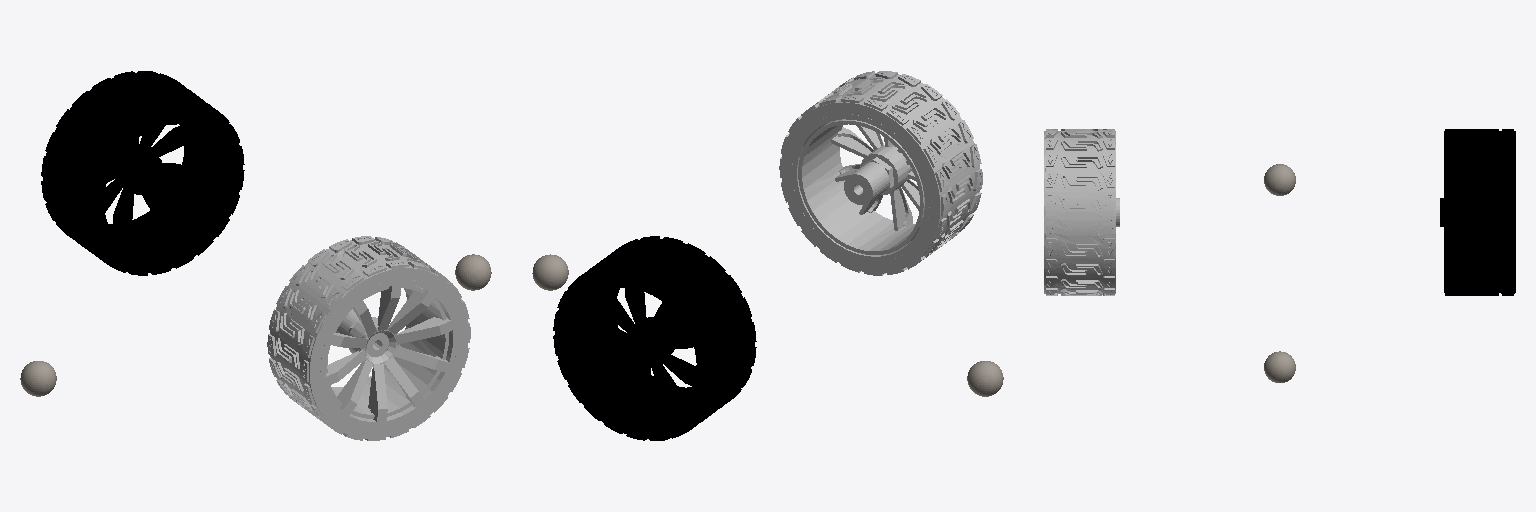
robot.urdf — mybot_description:
<?xml version="1.0" encoding="utf-8"?>
<!-- This URDF was automatically created by SolidWorks to URDF Exporter! Originally created by [author] ([email redacted]) 
     Commit Version: 1.6.0-1-g15f4949  Build Version: 1.6.7594.29634
     For more information, please see http://wiki.ros.org/sw_urdf_exporter -->
<robot
  name="mybot_description">
  <link
    name="base_link">
    <inertial>
      <origin
        xyz="0.0016313 8.6959E-07 0.044005"
        rpy="0 0 0" />
      <mass
        value="0.48293" />
      <inertia
        ixx="0.0019371"
        ixy="1.7761E-08"
        ixz="5.6275E-06"
        iyy="0.0020939"
        iyz="1.3096E-09"
        izz="0.0038315" />
    </inertial>
    <visual>
      <origin
        xyz="0 0 0"
        rpy="0 0 0" />
      <geometry>
        <mesh
          filename="package://mybot_description/meshes/base_link.STL" />
      </geometry>
      <material
        name="">
        <color
          rgba="0.25098 0.25098 0.25098 1" />
      </material>
    </visual>
    <collision>
      <origin
        xyz="0 0 0"
        rpy="0 0 0" />
      <geometry>
        <mesh
          filename="package://mybot_description/meshes/base_link.STL" />
      </geometry>
    </collision>
  </link>
  <link
    name="wheel_right">
    <inertial>
      <origin
        xyz="-4.3367E-05 0.013911 -0.00036102"
        rpy="0 0 0" />
      <mass
        value="0.085958" />
      <inertia
        ixx="3.7826E-05"
        ixy="-5.0247E-11"
        ixz="4.2853E-09"
        iyy="6.357E-05"
        iyz="-4.1865E-10"
        izz="3.7861E-05" />
    </inertial>
    <visual>
      <origin
        xyz="0 0 0"
        rpy="0 0 0" />
      <geometry>
        <mesh
          filename="package://mybot_description/meshes/wheel_right.STL" />
      </geometry>
      <material
        name="">
        <color
          rgba="0.75294 0.75294 0.75294 1" />
      </material>
    </visual>
    <collision>
      <origin
        xyz="0 0 0"
        rpy="0 0 0" />
      <geometry>
        <mesh
          filename="package://mybot_description/meshes/wheel_right.STL" />
      </geometry>
    </collision>
  </link>
  <joint
    name="wheel_right_jt"
    type="continuous">
    <origin
      xyz="0 -0.0956 0.030497"
      rpy="0 0 0" />
    <parent
      link="base_link" />
    <child
      link="wheel_right" />
    <axis
      xyz="0 -1 0" />
    <limit
      effort="100"
      velocity="100" />
  </joint>
  <link
    name="wheel_left">
    <inertial>
      <origin
        xyz="0.0001873 -0.013911 -0.00031169"
        rpy="0 0 0" />
      <mass
        value="0.085958" />
      <inertia
        ixx="3.7835E-05"
        ixy="-2.1718E-10"
        ixz="-1.599E-08"
        iyy="6.357E-05"
        iyz="3.6142E-10"
        izz="3.7852E-05" />
    </inertial>
    <visual>
      <origin
        xyz="0 0 0"
        rpy="0 0 0" />
      <geometry>
        <mesh
          filename="package://mybot_description/meshes/wheel_left.STL" />
      </geometry>
      <material
        name="">
        <color
          rgba="0 0 0 1" />
      </material>
    </visual>
    <collision>
      <origin
        xyz="0 0 0"
        rpy="0 0 0" />
      <geometry>
        <mesh
          filename="package://mybot_description/meshes/wheel_left.STL" />
      </geometry>
    </collision>
  </link>
  <joint
    name="wheel_left_jt"
    type="continuous">
    <origin
      xyz="0 0.0956 0.030498"
      rpy="0 0 0" />
    <parent
      link="base_link" />
    <child
      link="wheel_left" />
    <axis
      xyz="0 1 0" />
    <limit
      effort="100"
      velocity="100" />
  </joint>
  <link
    name="caster1">
    <inertial>
      <origin
        xyz="-5.5511E-17 -1.3878E-17 -1.3878E-17"
        rpy="0 0 0" />
      <mass
        value="0.0011503" />
      <inertia
        ixx="1.9441E-08"
        ixy="5.3767E-25"
        ixz="6.3848E-25"
        iyy="1.9441E-08"
        iyz="2.0163E-25"
        izz="1.9441E-08" />
    </inertial>
    <visual>
      <origin
        xyz="0 0 0"
        rpy="0 0 0" />
      <geometry>
        <mesh
          filename="package://mybot_description/meshes/caster1.STL" />
      </geometry>
      <material
        name="">
        <color
          rgba="0.64706 0.61961 0.58824 1" />
      </material>
    </visual>
    <collision>
      <origin
        xyz="0 0 0"
        rpy="0 0 0" />
      <geometry>
        <mesh
          filename="package://mybot_description/meshes/caster1.STL" />
      </geometry>
    </collision>
  </link>
  <joint
    name="caster1_jt"
    type="continuous">
    <origin
      xyz="0.09 0 0.00297"
      rpy="0 0 0" />
    <parent
      link="base_link" />
    <child
      link="caster1" />
    <axis
      xyz="1 0 0" />
    <limit
      effort="100"
      velocity="100" />
  </joint>
  <link
    name="caster2">
    <inertial>
      <origin
        xyz="9.8255E-15 -1.3878E-17 -1.3878E-17"
        rpy="0 0 0" />
      <mass
        value="0.0011503" />
      <inertia
        ixx="1.9441E-08"
        ixy="0"
        ixz="0"
        iyy="1.9441E-08"
        iyz="-1.0351E-42"
        izz="1.9441E-08" />
    </inertial>
    <visual>
      <origin
        xyz="0 0 0"
        rpy="0 0 0" />
      <geometry>
        <mesh
          filename="package://mybot_description/meshes/caster2.STL" />
      </geometry>
      <material
        name="">
        <color
          rgba="0.64706 0.61961 0.58824 1" />
      </material>
    </visual>
    <collision>
      <origin
        xyz="0 0 0"
        rpy="0 0 0" />
      <geometry>
        <mesh
          filename="package://mybot_description/meshes/caster2.STL" />
      </geometry>
    </collision>
  </link>
  <joint
    name="caster2_jt"
    type="continuous">
    <origin
      xyz="-0.09 0 0.00297"
      rpy="0 0 0" />
    <parent
      link="base_link" />
    <child
      link="caster2" />
    <axis
      xyz="1 0 0" />
    <limit
      effort="100"
      velocity="100" />
  </joint>
</robot>

--- Render facts (derived) ---
The picture shows the robot from 3 angles, left to right: view 1: azimuth 30°, elevation 25°; view 2: azimuth 150°, elevation 25°; view 3: azimuth 270°, elevation 25°; orthographic projection.
Model mybot_description with 5 links and 4 joints (4 continuous), rooted at base_link, posed all joints at 0.
Visible links, largest first — view 1: wheel_right, wheel_left, caster1, caster2; view 2: wheel_right, wheel_left, caster2, caster1; view 3: wheel_right, wheel_left, caster2, caster1.
Link boxes in pixels (x1,y1,x2,y2): wheel_right: (267, 236, 470, 440); wheel_left: (41, 71, 244, 275); caster1: (455, 254, 491, 290); caster2: (20, 361, 56, 396); wheel_right: (779, 71, 982, 275); wheel_left: (553, 236, 756, 440); caster2: (967, 361, 1003, 396); caster1: (532, 254, 568, 290); wheel_right: (1044, 129, 1119, 295); wheel_left: (1440, 129, 1515, 295); caster2: (1264, 164, 1295, 195); caster1: (1264, 351, 1295, 382).
Bounding box of the posed robot: 0.193 × 0.1912 × 0.068 m (x, y, z).
4 mesh visuals loaded from 5 distinct referenced files (4 binary STL); not drawn: 1 (reference not matched to a file when rendering).